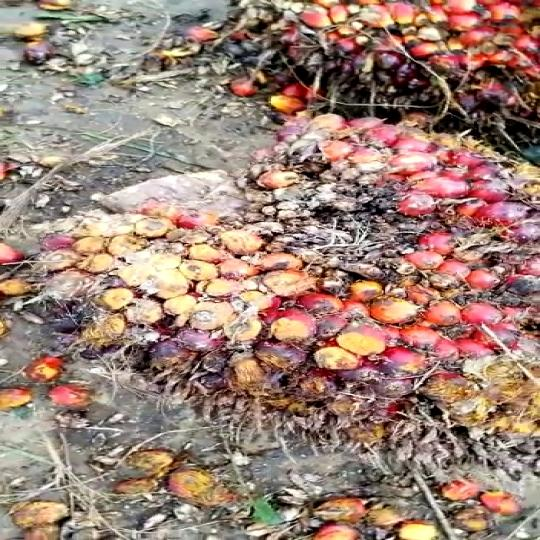masak: (0, 108, 540, 490)
